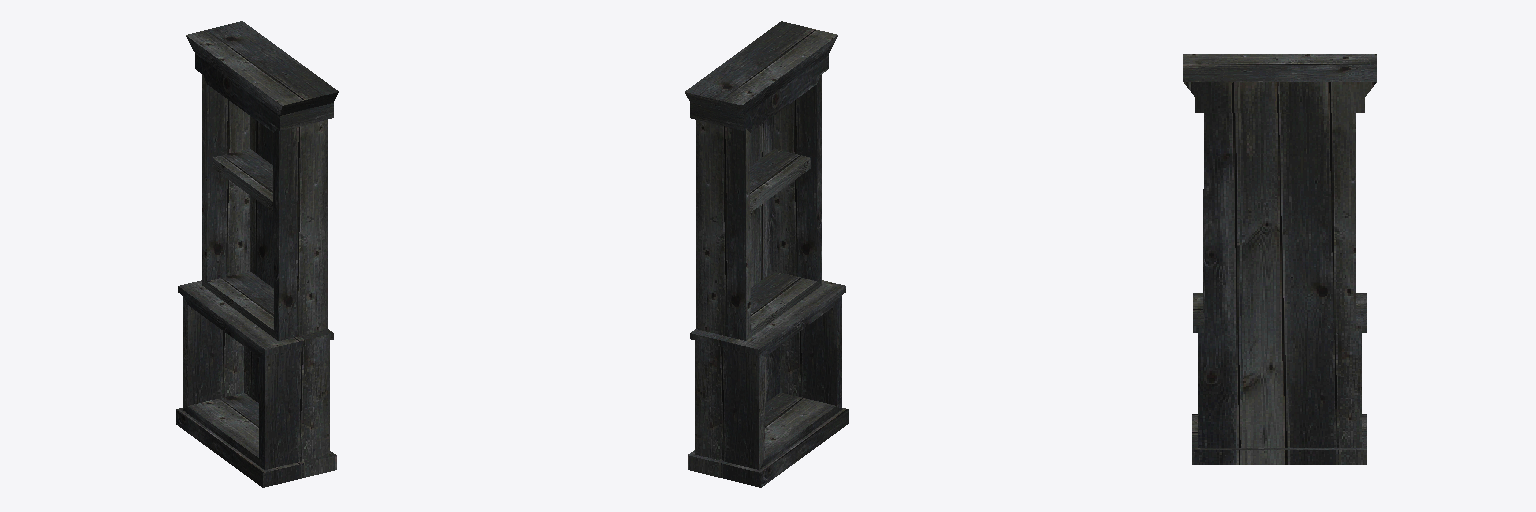
3 renders of one model, left to right at view 1: azimuth 30°, elevation 25°; view 2: azimuth 150°, elevation 25°; view 3: azimuth 270°, elevation 25°, orthographic.
Parts seen in each view (by area): view 1: default; view 2: default; view 3: default.
Part boxes in pixels (left/top/right/bottom): default: left=176, top=21, right=338, bottom=487; default: left=685, top=21, right=848, bottom=487; default: left=1183, top=54, right=1376, bottom=464.
Bounding box in the file's own units: 46.51 × 231 × 106.
Materials: 1 (1 with a texture image).